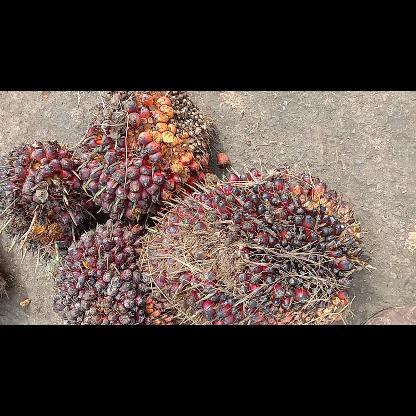Kurang masak: (136, 164, 378, 324), (51, 218, 179, 324)
TBS masak: (74, 92, 216, 228), (0, 137, 103, 268)
